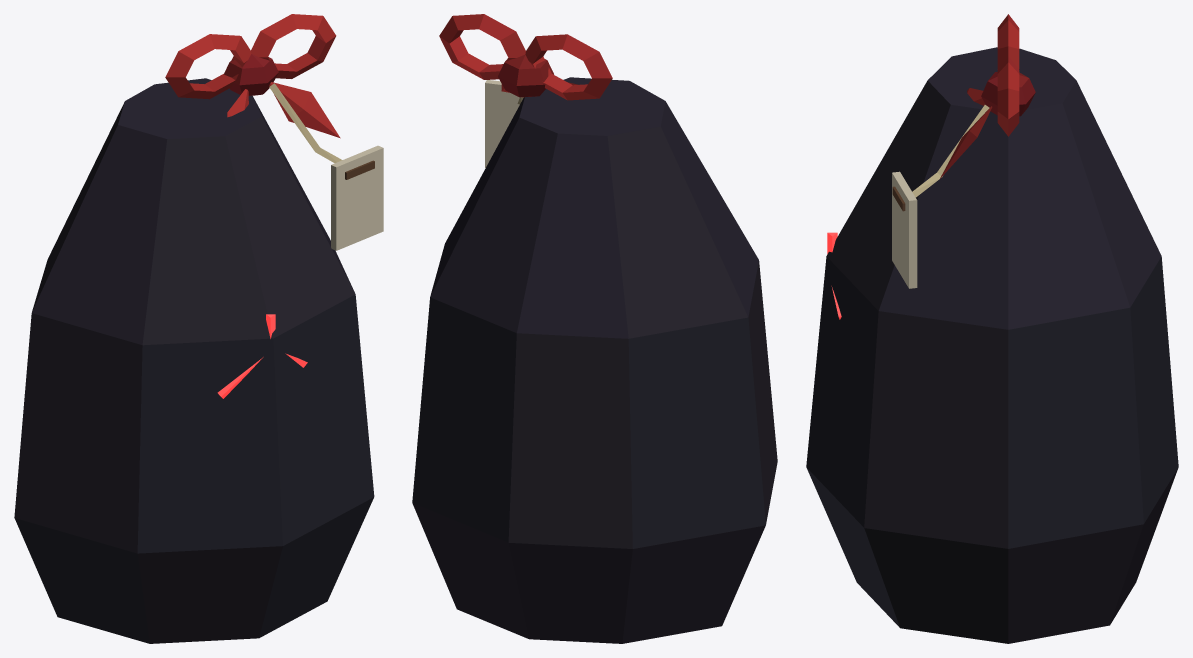
File: quest_rune_stone.glb
The picture shows the model from 3 angles, left to right: view 1: azimuth 30°, elevation 25°; view 2: azimuth 150°, elevation 25°; view 3: azimuth 270°, elevation 25°; orthographic projection. The views are drawn at different scales.
Visible parts, largest first — view 1: quest_rune_stone; view 2: quest_rune_stone; view 3: quest_rune_stone.
Boxes of the visible parts, x1,y1,x2,y2 form: quest_rune_stone: (14,14,383,643); quest_rune_stone: (412,14,777,643); quest_rune_stone: (806,14,1178,643).
Bounding box in the file's own units: 0.2912 × 0.4573 × 0.2689.
